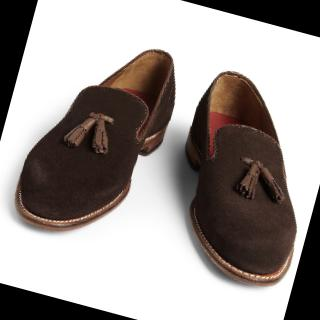loafers: (5, 20, 320, 298)
